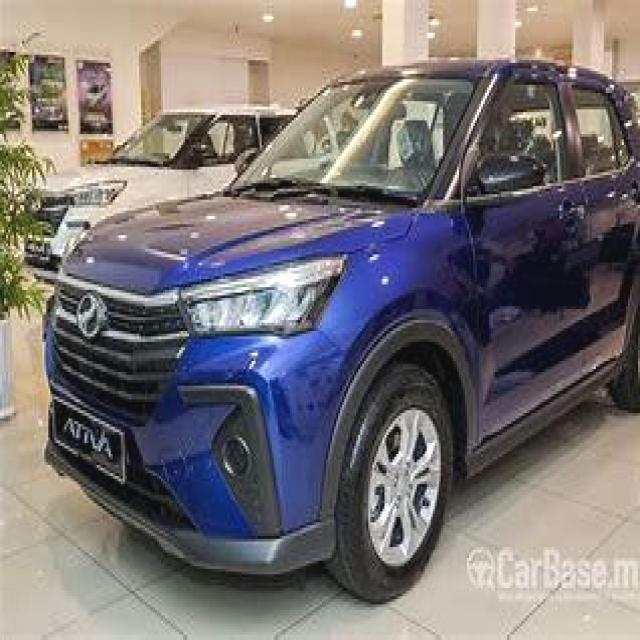PeroduaAtiva: (38, 56, 638, 603)
